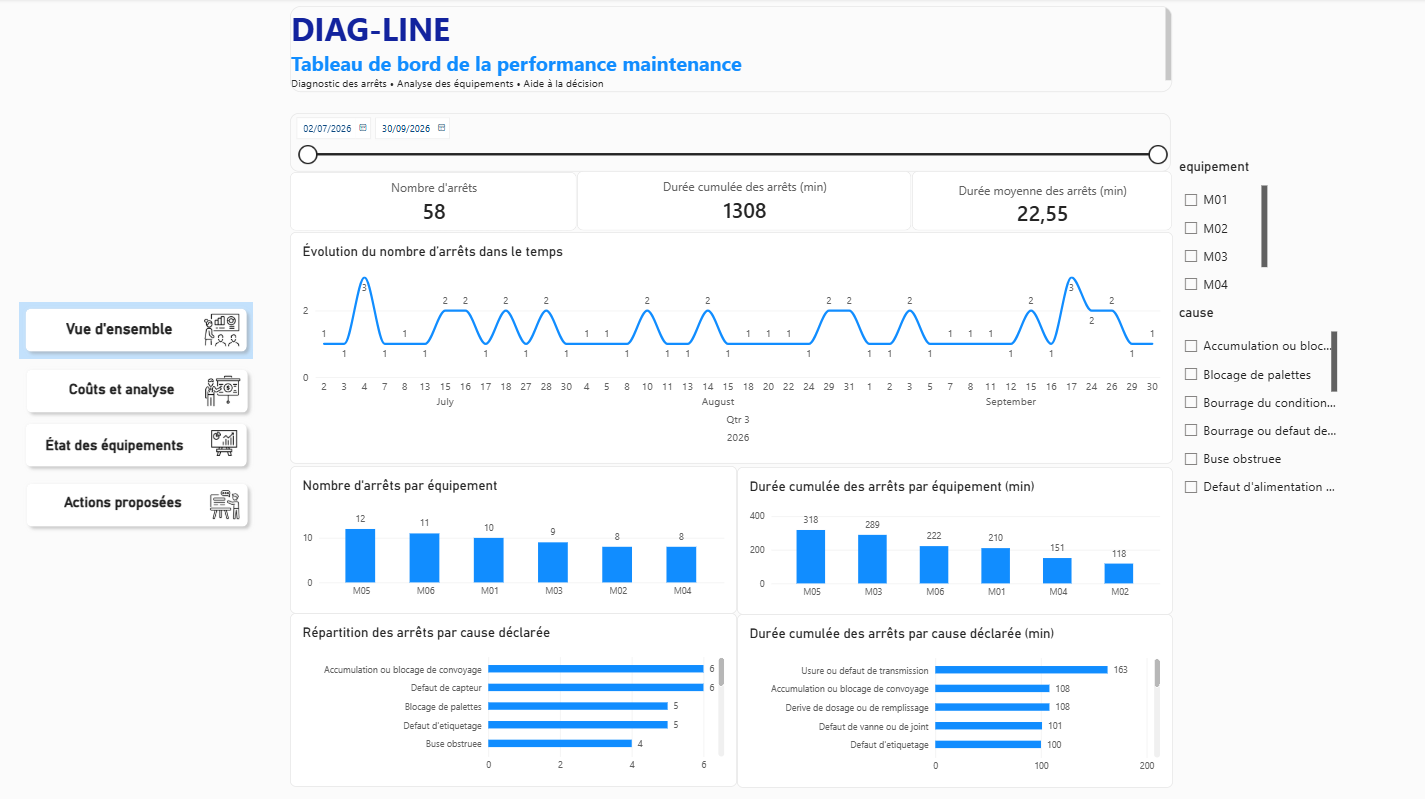

This screenshot's page, from the dashboard's own definition file:
{"tool":"powerbi","page":{"name":"01 - Vue d'ensemble maintenance","canvas":[1920,1080],"ordinal":0},"visuals":[{"type":"group","id":"g1","title":"Group 4","box":[26.7,564.4,315.7,75.7],"z":0,"group":"g5"},{"type":"clusteredColumnChart","title":"Nombre d''arrêts par équipement","fields":{"Category":["equipements.equipement_id"],"Y":["arrets.Nombre d'arrêts"]},"box":[391.9,630.5,601.8,198.8],"z":0},{"type":"group","id":"g2","title":"Group 1","box":[27,410,315.7,75.7],"z":1000,"group":"g6"},{"type":"actionButton","title":" État des équipements ","box":[56.8,591.4,197.8,26.7],"z":1000,"group":"g5"},{"type":"clusteredColumnChart","title":"Durée cumulée des arrêts par équipement (min)","fields":{"Category":["equipements.equipement_id"],"Y":["arrets.Durée cumulée des arrêts (min)"]},"box":[993.7,631.7,586.7,198.8],"z":1000},{"type":"actionButton","title":"Vue d''ensemble","box":[90,434.4,164.4,25.6],"z":2000,"group":"g6"},{"type":"shape","box":[26.7,564.4,315.7,75.7],"z":2000,"group":"g1"},{"type":"clusteredBarChart","title":"Répartition des arrêts par cause déclarée","fields":{"Category":["arrets.cause_declaree"],"Y":["arrets.Nombre d'arrêts"]},"box":[391.9,828,601.8,234.2],"z":2000},{"type":"shape","box":[27,410,315.7,75.7],"z":3000,"group":"g2"},{"type":"shape","box":[27.8,491.1,315.7,75.7],"z":3000,"group":"g7"},{"type":"clusteredBarChart","title":"Durée cumulée des arrêts par cause déclarée (min)","fields":{"Category":["arrets.cause_declaree"],"Y":["arrets.Durée cumulée des arrêts (min)"]},"box":[993.7,829.2,586.7,234.2],"z":3000},{"type":"lineChart","title":"Évolution du nombre d’arrêts dans le temps","fields":{"Category":["arrets.debut.Variation.Date Hierarchy.Year","arrets.debut.Variation.Date Hierarchy.Quarter","arrets.debut.Variation.Date Hierarchy.Month","arrets.debut.Variation.Date Hierarchy.Day"],"Y":["arrets.Nombre d'arrêts"]},"box":[391.9,315.1,1189.1,312.4],"z":4000},{"type":"slicer","title":"equipement","fields":{"Values":["equipements.equipement_id"]},"box":[1588.6,215.7,118.6,195.7],"z":5000},{"type":"slicer","title":"Période analysée : juillet – septembre 2026 | Données simulées à des fins de démonstration","fields":{"Values":["arrets.debut"]},"box":[391.9,154.9,1186.4,79.5],"z":6000},{"type":"cardVisual","fields":{"Data":["arrets.Nombre d'arrêts"]},"box":[391.9,234.3,386.5,79.5],"z":7000},{"type":"slicer","title":"cause","fields":{"Values":["arrets.cause_declaree"]},"box":[1588.6,411.4,212.9,267.1],"z":8000},{"type":"cardVisual","fields":{"Data":["arrets.Durée cumulée des arrêts (min)"]},"box":[778.6,233.6,450.9,80],"z":9000},{"type":"textbox","box":[391.9,10.8,1187.7,115.8],"z":10000},{"type":"cardVisual","title":"zx","fields":{"Data":["arrets.Durée moyenne des arrêts (min)"]},"box":[1229.5,233.6,350.9,80],"z":11000},{"type":"group","id":"g3","title":"Group 6","box":[27.8,491.1,315.7,75.7],"z":11001},{"type":"group","id":"g4","title":"Group 3","box":[27.8,645.6,315.7,75.7],"z":11002},{"type":"group","id":"g5","title":"Group 5","box":[26.7,564.4,315.6,75.6],"z":11003},{"type":"group","id":"g6","title":"Group 7","box":[27,410,315.7,75.7],"z":11004},{"type":"shape","box":[27.8,645.6,315.7,75.7],"z":16000,"group":"g8"},{"type":"group","id":"g7","title":"Group 1","box":[27.8,491.1,315.7,75.7],"z":17000,"group":"g3"},{"type":"image","title":" État des équipements ","box":[277.9,582.5,49.2,35.4],"z":17000,"group":"g1"},{"type":"actionButton","title":"  Coûts et analyse ","box":[93.6,515.4,151.1,23.3],"z":19000,"group":"g3"},{"type":"image","title":"Actions proposées ","box":[275.5,660.3,56.2,45.4],"z":19000,"group":"g8"},{"type":"group","id":"g8","title":"Group 2","box":[27.8,645.6,315.7,75.7],"z":20000,"group":"g4"},{"type":"actionButton","title":"Actions proposées ","box":[86.9,668.3,170,28.9],"z":21000,"group":"g4"},{"type":"image","title":" Vue d''ensemble ","box":[272.1,420.8,55.7,54.3],"z":22000,"group":"g2"},{"type":"image","title":" Vue d''ensemble ","box":[272.9,501.9,55.7,54.3],"z":22000,"group":"g7"}]}

Visuals, with their boxes on the page's 1920x1080 design canvas (x1, y1, x2, y2). These are canvas units, not pixel positions in the 1425x799 screenshot, which may show the page scaled, cropped or inside an application window:
"Group 4" group: {"left": 27, "top": 564, "right": 342, "bottom": 640}
"Nombre d''arrêts par équipement" clusteredColumnChart: {"left": 392, "top": 630, "right": 994, "bottom": 829}
"Group 1" group: {"left": 27, "top": 410, "right": 343, "bottom": 486}
" État des équipements " actionButton: {"left": 57, "top": 591, "right": 255, "bottom": 618}
"Durée cumulée des arrêts par équipement (min)" clusteredColumnChart: {"left": 994, "top": 632, "right": 1580, "bottom": 830}
"Vue d''ensemble" actionButton: {"left": 90, "top": 434, "right": 254, "bottom": 460}
shape: {"left": 27, "top": 564, "right": 342, "bottom": 640}
"Répartition des arrêts par cause déclarée" clusteredBarChart: {"left": 392, "top": 828, "right": 994, "bottom": 1062}
shape: {"left": 27, "top": 410, "right": 343, "bottom": 486}
shape: {"left": 28, "top": 491, "right": 344, "bottom": 567}
"Durée cumulée des arrêts par cause déclarée (min)" clusteredBarChart: {"left": 994, "top": 829, "right": 1580, "bottom": 1063}
"Évolution du nombre d’arrêts dans le temps" lineChart: {"left": 392, "top": 315, "right": 1581, "bottom": 628}
"equipement" slicer: {"left": 1589, "top": 216, "right": 1707, "bottom": 411}
"Période analysée : juillet – septembre 2026 | Données simulées à des fins de démonstration" slicer: {"left": 392, "top": 155, "right": 1578, "bottom": 234}
cardVisual - arrets.Nombre d'arrêts: {"left": 392, "top": 234, "right": 778, "bottom": 314}
"cause" slicer: {"left": 1589, "top": 411, "right": 1802, "bottom": 678}
cardVisual - arrets.Durée cumulée des arrêts (min): {"left": 779, "top": 234, "right": 1230, "bottom": 314}
textbox: {"left": 392, "top": 11, "right": 1580, "bottom": 127}
"zx" cardVisual: {"left": 1230, "top": 234, "right": 1580, "bottom": 314}
"Group 6" group: {"left": 28, "top": 491, "right": 344, "bottom": 567}
"Group 3" group: {"left": 28, "top": 646, "right": 344, "bottom": 721}
"Group 5" group: {"left": 27, "top": 564, "right": 342, "bottom": 640}
"Group 7" group: {"left": 27, "top": 410, "right": 343, "bottom": 486}
shape: {"left": 28, "top": 646, "right": 344, "bottom": 721}
"Group 1" group: {"left": 28, "top": 491, "right": 344, "bottom": 567}
" État des équipements " image: {"left": 278, "top": 582, "right": 327, "bottom": 618}
"  Coûts et analyse " actionButton: {"left": 94, "top": 515, "right": 245, "bottom": 539}
"Actions proposées " image: {"left": 276, "top": 660, "right": 332, "bottom": 706}
"Group 2" group: {"left": 28, "top": 646, "right": 344, "bottom": 721}
"Actions proposées " actionButton: {"left": 87, "top": 668, "right": 257, "bottom": 697}
" Vue d''ensemble " image: {"left": 272, "top": 421, "right": 328, "bottom": 475}
" Vue d''ensemble " image: {"left": 273, "top": 502, "right": 329, "bottom": 556}
